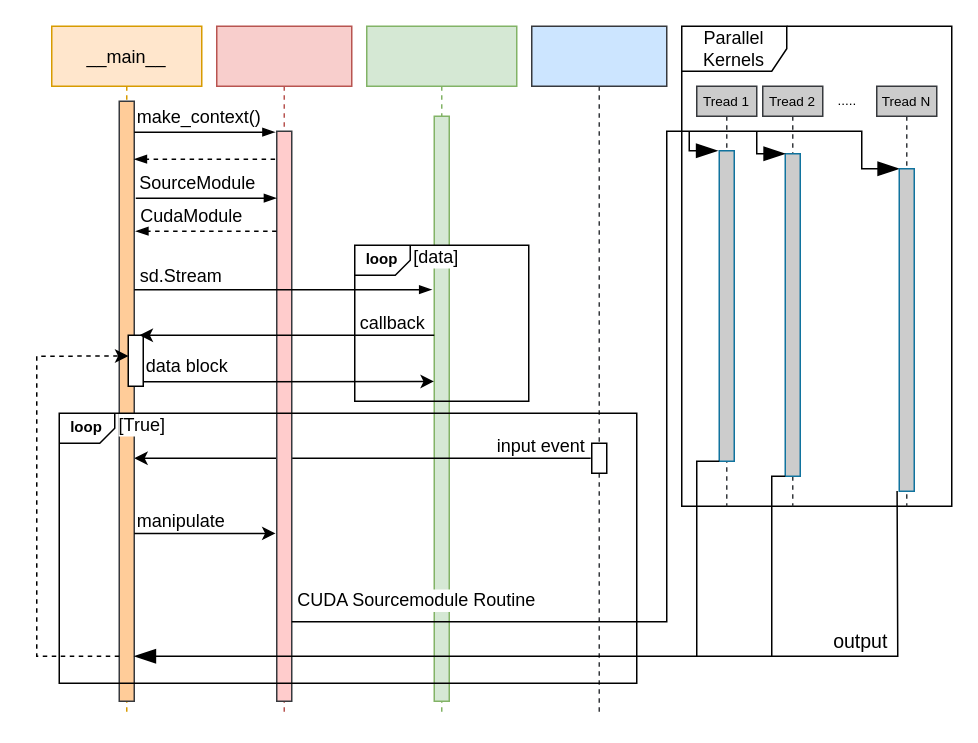
This 978x743 diagram has some shape labels left out. The box of each missing label's shape, as (x1, y1, x2, y2) in pixels:
keyboard: (530, 25, 667, 716)
pyCuda: (215, 25, 352, 716)
Sounddevice: (365, 25, 517, 716)
